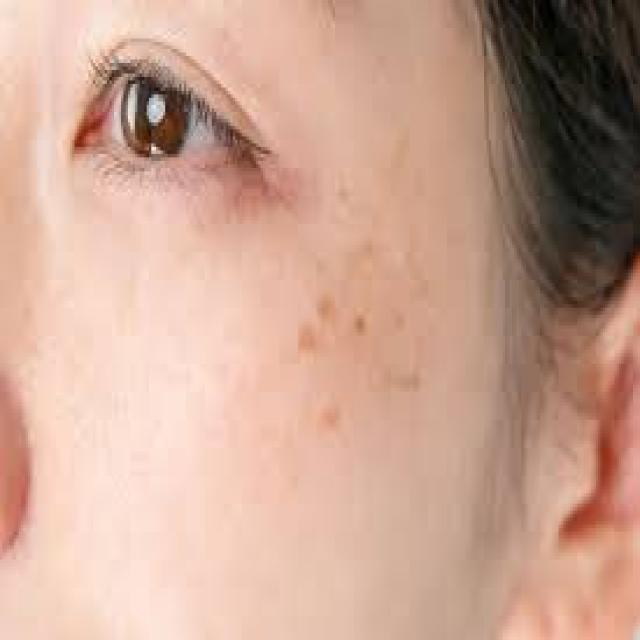pigmentation: (302, 244, 437, 416)
